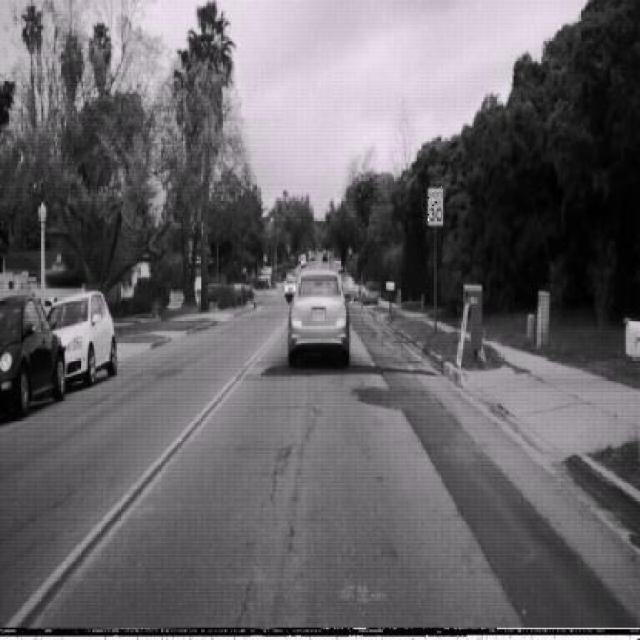speedLimit30: (428, 186, 444, 226)
